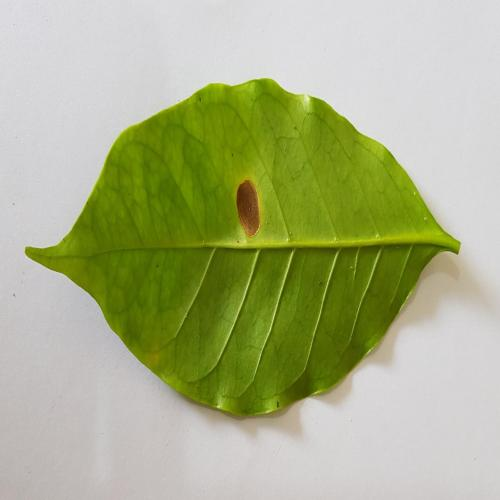leaf: (236, 180, 259, 237)
